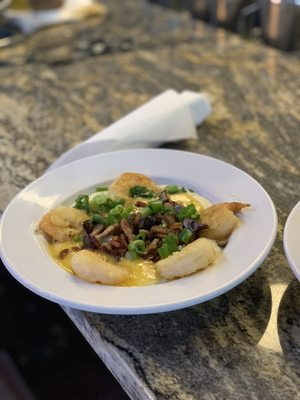curry: (2, 13, 300, 400)
